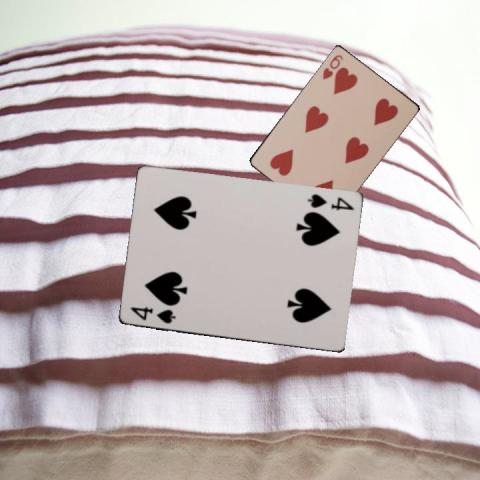4s: (304, 191, 355, 212), (127, 304, 177, 325)
6h: (319, 51, 345, 81)
